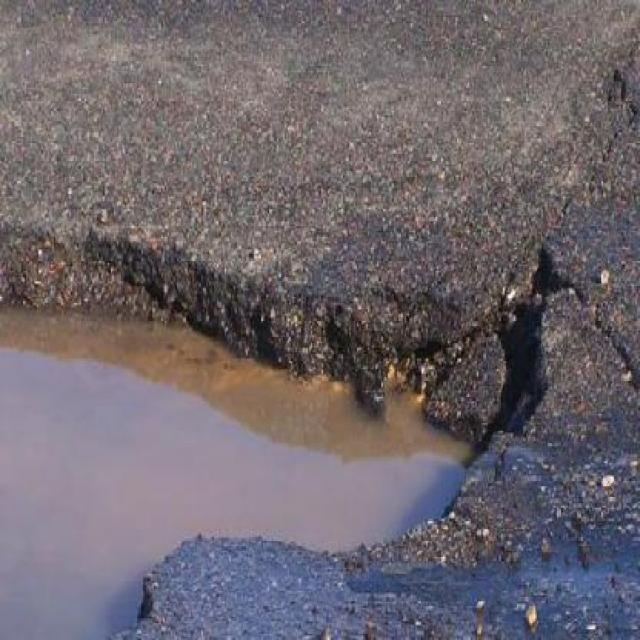Pothole: (0, 212, 562, 638)
